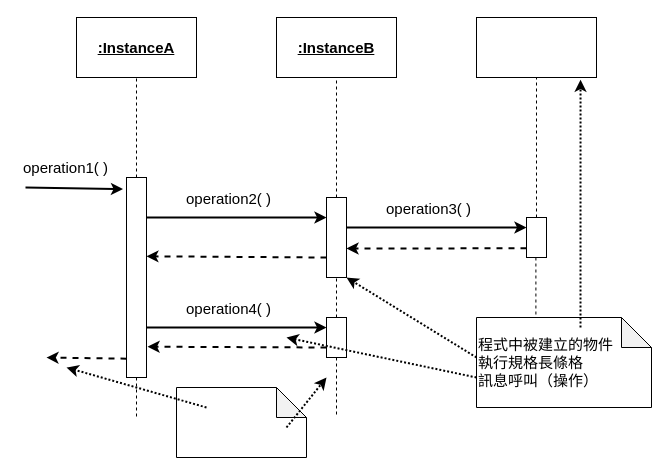
Some shapes in this 669 by 475 pixel diagram are drawn without their labels. The shapes that lost their labels are listed below. From the top down, each one's box as (x1, y1, x2, y2) in pixels, then its label:
(476, 16, 596, 78): :InstanceC
(176, 386, 306, 458): 回復訊息 物件生命線
